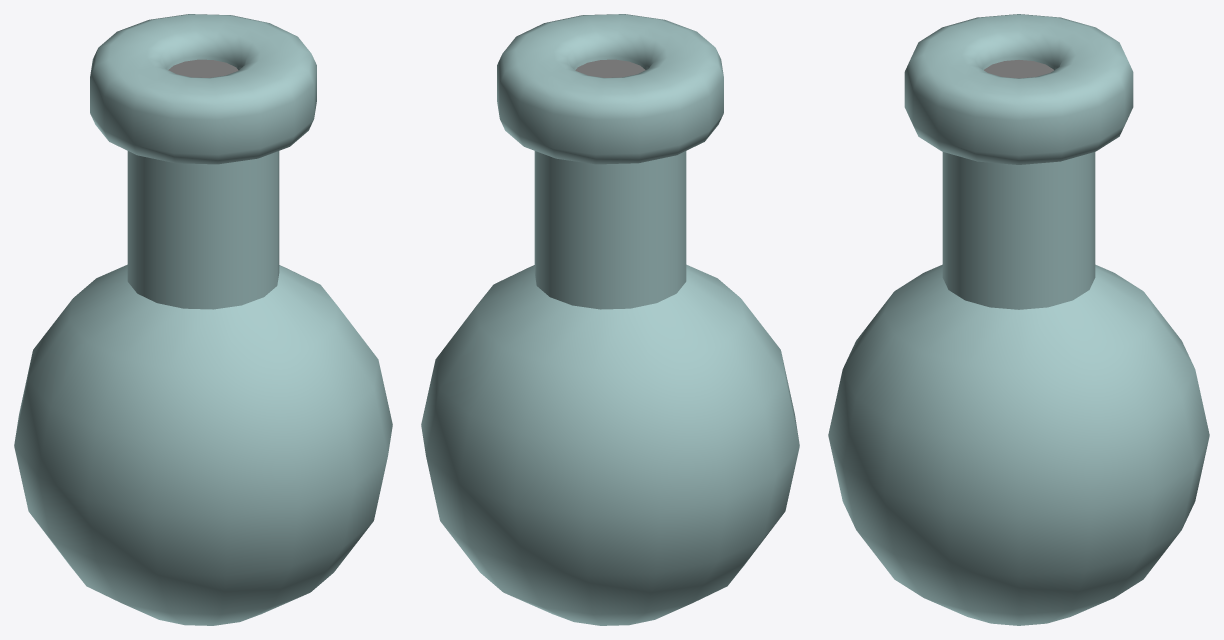
Rendered from LastLuna_Model_Station_Glass_Flask_Round.fbx.
3 renders of one model, left to right at view 1: azimuth 30°, elevation 25°; view 2: azimuth 150°, elevation 25°; view 3: azimuth 270°, elevation 25°, orthographic.
Parts seen in each view (by area): view 1: Flask_Round001, Flask_Round002; view 2: Flask_Round001, Flask_Round002; view 3: Flask_Round001, Flask_Round002.
Boxes of the visible parts, left/top/right/bottom form: Flask_Round001: left=14, top=14, right=392, bottom=625; Flask_Round002: left=168, top=59, right=238, bottom=77; Flask_Round001: left=421, top=14, right=799, bottom=625; Flask_Round002: left=575, top=59, right=645, bottom=77; Flask_Round001: left=828, top=14, right=1209, bottom=625; Flask_Round002: left=984, top=60, right=1053, bottom=78.
Size of the model in its own units: 50 by 80 by 50.
